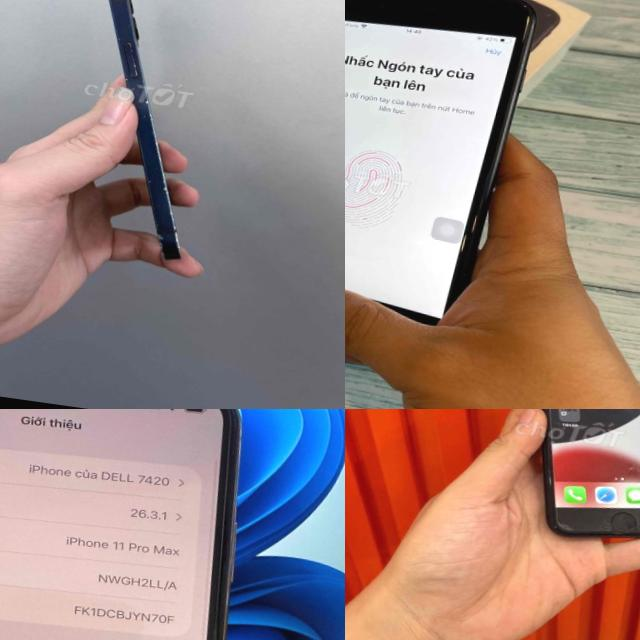gen_11: (0, 409, 283, 640)
gen_12_13: (108, 0, 179, 258)
gen_7_8: (345, 0, 546, 357), (493, 409, 640, 557)
